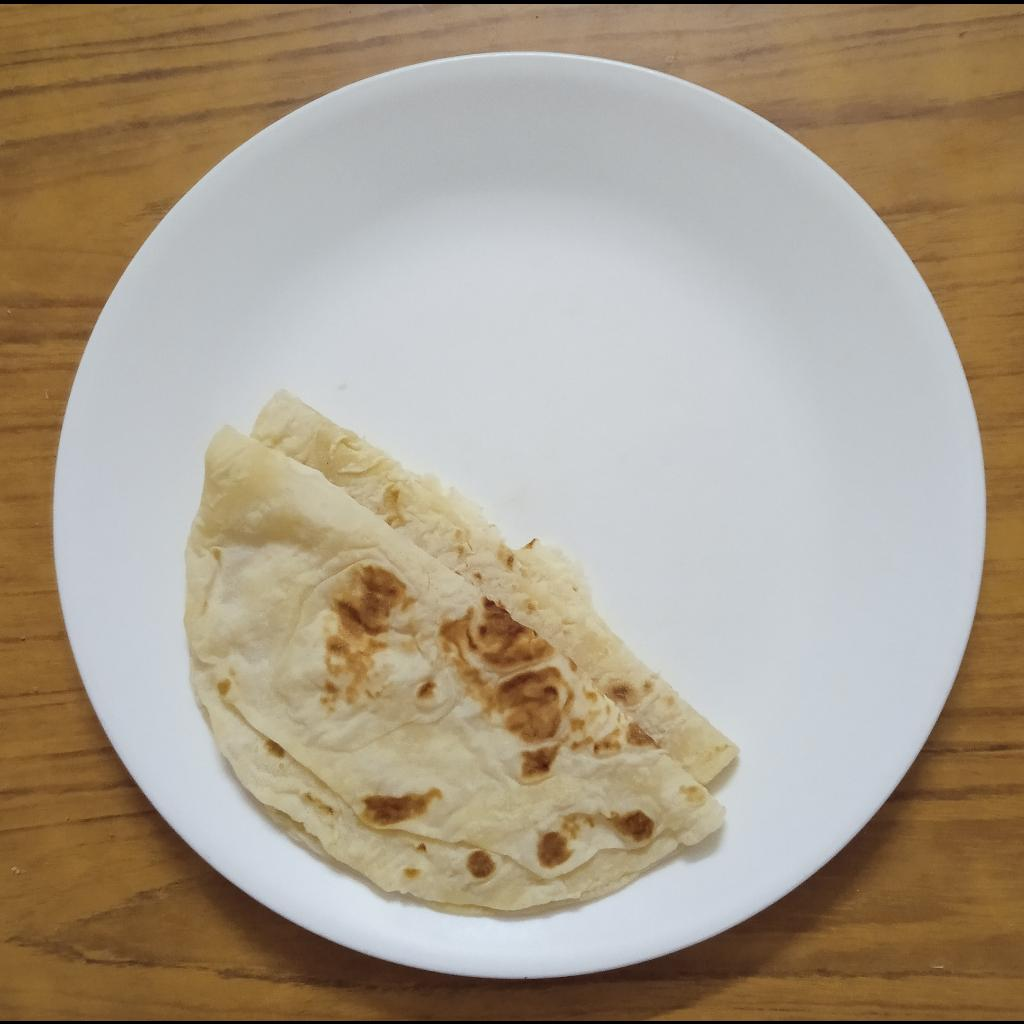ruti: (180, 386, 742, 918)
